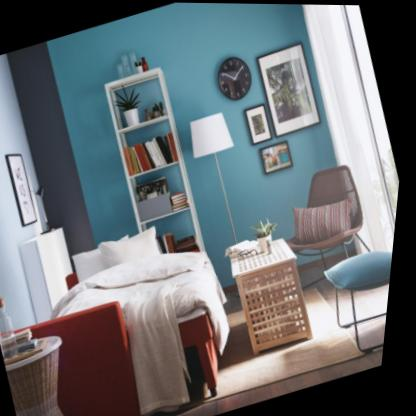Chair: (268, 156, 389, 278)
Table: (222, 226, 330, 359)
